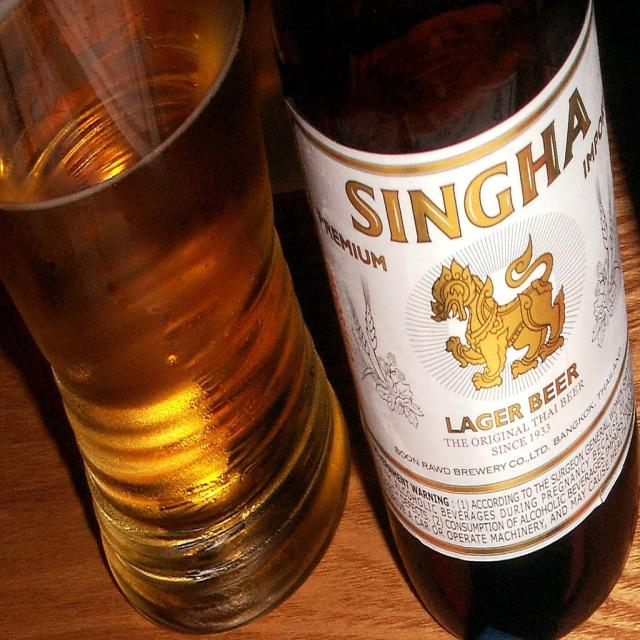singha: (288, 2, 633, 496)
